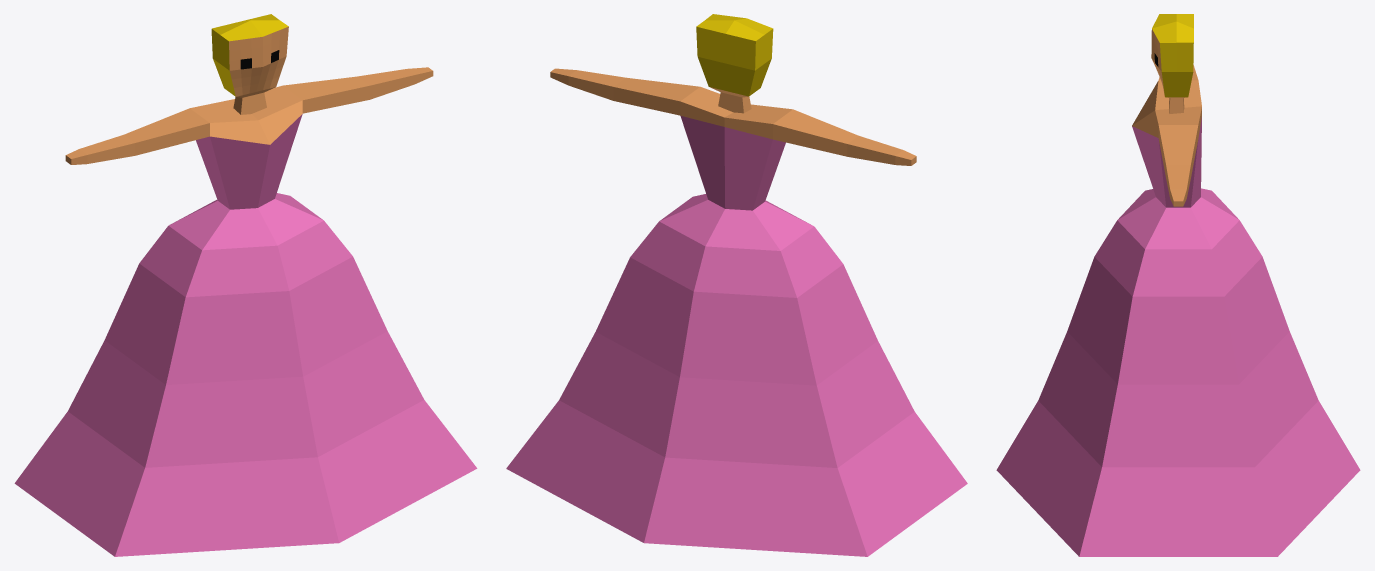
File: Принцесса.fbx
3 views of the same model, side by side, from view 1: azimuth 30°, elevation 25°; view 2: azimuth 150°, elevation 25°; view 3: azimuth 270°, elevation 25° (orthographic).
Visible parts, largest first — view 1: Cube.001; view 2: Cube.001; view 3: Cube.001.
Boxes of the visible parts, x1,y1,x2,y2 form: Cube.001: (14, 14, 477, 556); Cube.001: (506, 14, 967, 556); Cube.001: (996, 14, 1360, 556).
Size of the model in its own units: 1566 by 1862 by 1366.
